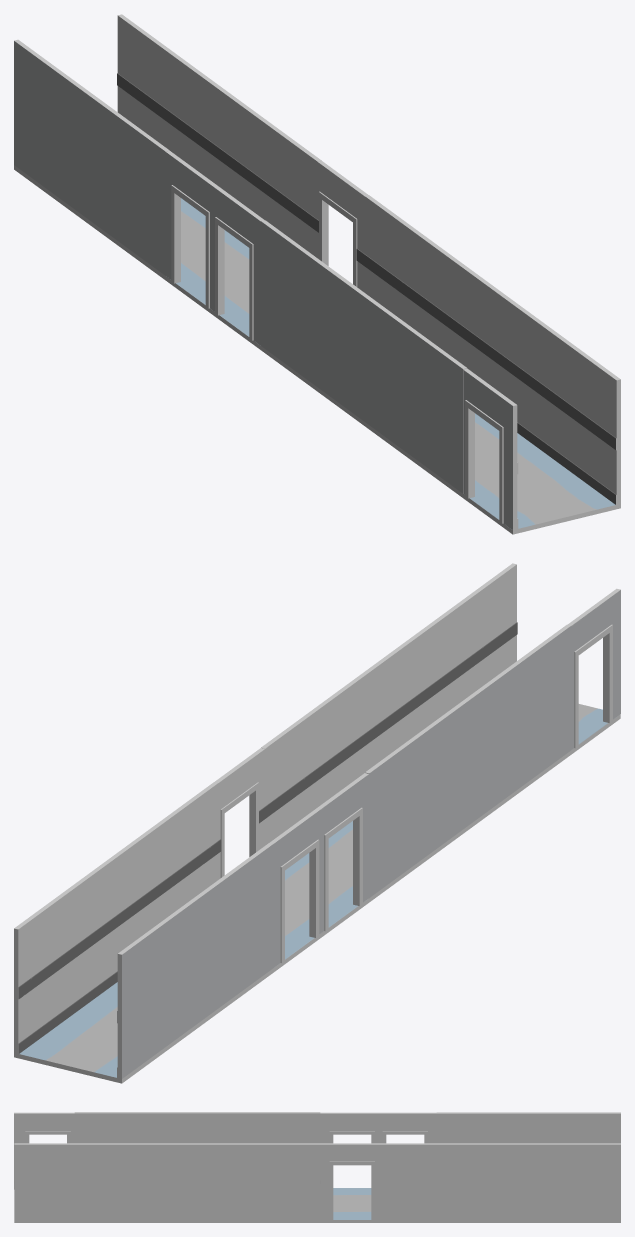
File: Updated_Hall.fbx
3 renders of one model, top to bottom at view 1: azimuth 30°, elevation 25°; view 2: azimuth 150°, elevation 25°; view 3: azimuth 270°, elevation 25°, orthographic. The views are drawn at different scales.
Parts seen in each view (by area): view 1: Hallway; view 2: Hallway; view 3: Hallway.
Boxes of the visible parts, bbox=[...] form: Hallway: bbox=[14, 14, 620, 534]; Hallway: bbox=[14, 563, 620, 1083]; Hallway: bbox=[14, 1112, 620, 1222].
Size of the model in its own units: 2.56 by 2.86 by 20.01.
1 material, 1 textured.
